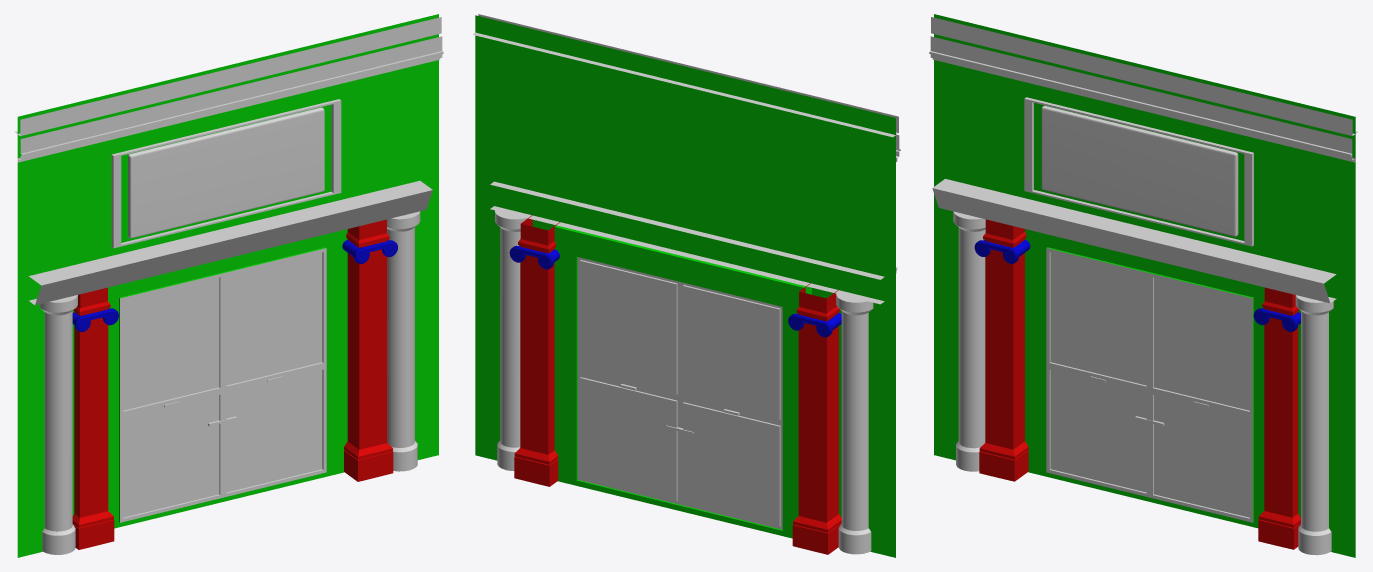
The model's file is BigDoor.fbx.
The picture shows the model from 3 angles, left to right: view 1: azimuth 30°, elevation 25°; view 2: azimuth 150°, elevation 25°; view 3: azimuth 330°, elevation 25°; orthographic projection.
Parts seen in each view (by area): view 1: pCube46, polySurface23, pCube47, POOP4, Bottumtrim10, POOP3, pCylinder6, pCube30, pCylinder10, pCube48; view 2: pCube46, POOP3, POOP4, pCylinder6, pCylinder10, pCube47, pCube30; view 3: pCube46, polySurface23, pCube47, POOP3, Bottumtrim10, POOP4, pCylinder10, pCube30, pCylinder6, pCube48.
Boxes of the visible parts, x1,y1,x2,y2 form: pCube46: (17,14,438,557); polySurface23: (128,107,324,238); pCube47: (29,180,432,305); POOP4: (342,219,397,481); Bottumtrim10: (17,36,443,162); POOP3: (72,287,118,549); pCylinder6: (40,295,77,554); pCube30: (15,17,441,136); pCylinder10: (387,211,420,471); pCube48: (111,99,341,248); pCube46: (475,15,895,557); POOP3: (788,283,841,554); POOP4: (509,215,560,486); pCylinder6: (836,293,873,554); pCylinder10: (495,210,527,470); pCube47: (490,181,897,304); pCube30: (472,14,898,137); pCube46: (934,14,1355,557); polySurface23: (1041,105,1238,236); pCube47: (932,179,1336,303); POOP3: (974,219,1030,481); Bottumtrim10: (929,36,1355,162); POOP4: (1253,287,1300,549); pCylinder10: (1295,295,1333,555); pCube30: (931,17,1357,135); pCylinder6: (953,211,985,471); pCube48: (1024,97,1253,246).
Size of the model in its own units: 93.99 by 93.96 by 11.08.
